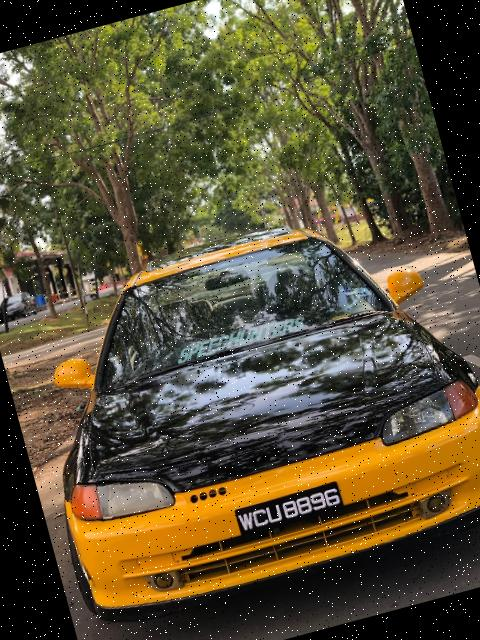License_Plate: (227, 480, 353, 538)
car: (1, 185, 480, 638)
